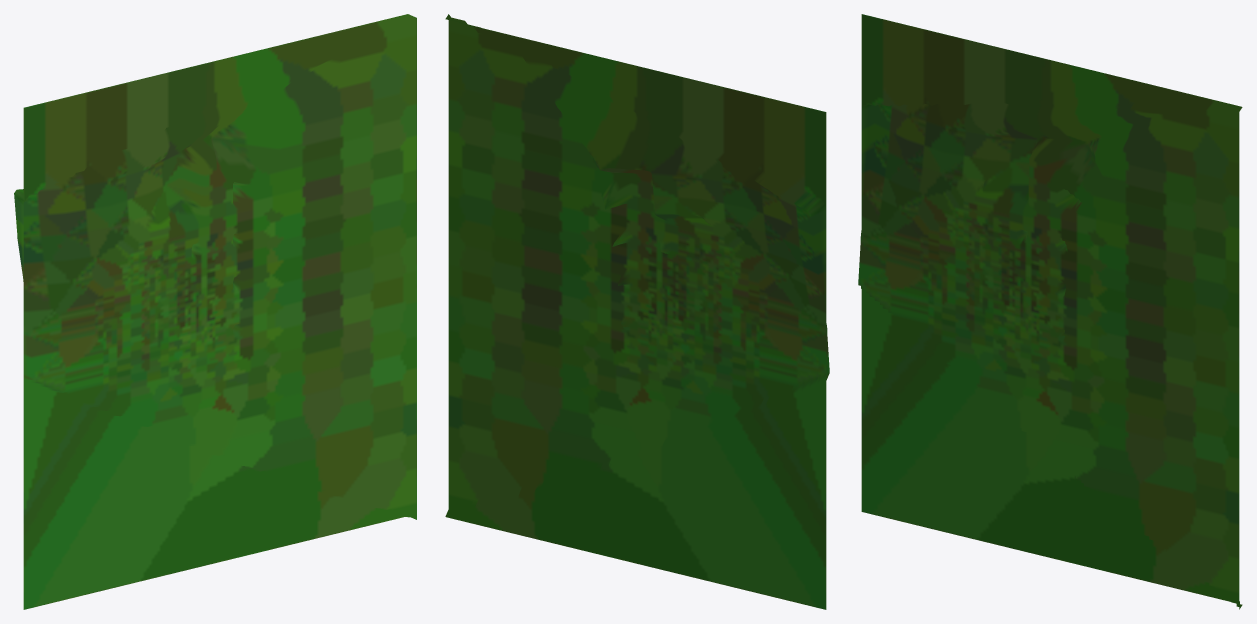
File: terrain.obj
3 renders of one model, left to right at view 1: azimuth 30°, elevation 25°; view 2: azimuth 150°, elevation 25°; view 3: azimuth 330°, elevation 25°, orthographic.
Parts seen in each view (by area): view 1: reconstructed_gazebo_terrain; view 2: reconstructed_gazebo_terrain; view 3: reconstructed_gazebo_terrain.
Part boxes in pixels (bbox=[...]): reconstructed_gazebo_terrain: bbox=[14, 14, 416, 609]; reconstructed_gazebo_terrain: bbox=[445, 14, 829, 609]; reconstructed_gazebo_terrain: bbox=[858, 14, 1242, 609].
Bounding box in the file's own units: 140 × 174 × 16.26.
1 material, 1 textured.
